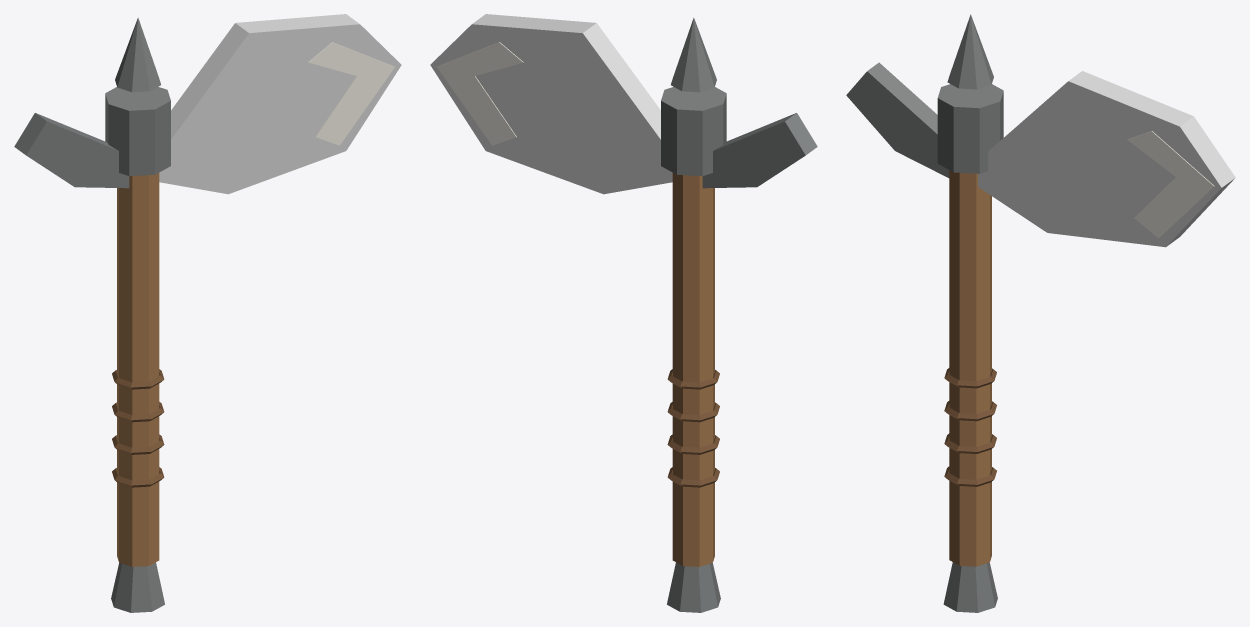
The model's file is t1_axe.glb.
3 views of the same model, side by side, from view 1: azimuth 30°, elevation 25°; view 2: azimuth 150°, elevation 25°; view 3: azimuth 330°, elevation 25° (orthographic).
Parts seen in each view (by area): view 1: RightBlade, WoodHandle, TopSocket, BackSpike, RightBladeEdge, BottomPommel, TopSpike; view 2: RightBlade, WoodHandle, TopSocket, BackSpike, RightBladeEdge, BottomPommel, TopSpike; view 3: RightBlade, WoodHandle, BackSpike, TopSocket, RightBladeEdge, BottomPommel, TopSpike.
Boxes of the visible parts, box(x1,y1,x2,y2) form: RightBlade: box(159, 14, 401, 194); WoodHandle: box(117, 173, 159, 566); TopSocket: box(105, 87, 170, 176); BackSpike: box(14, 113, 129, 188); RightBladeEdge: box(308, 42, 394, 145); BottomPommel: box(111, 562, 164, 612); TopSpike: box(115, 17, 160, 92); RightBlade: box(430, 14, 672, 194); WoodHandle: box(672, 173, 714, 566); TopSocket: box(661, 87, 726, 176); BackSpike: box(702, 113, 817, 188); RightBladeEdge: box(437, 42, 523, 145); BottomPommel: box(667, 562, 720, 612); TopSpike: box(671, 17, 716, 92); RightBlade: box(978, 71, 1235, 247); WoodHandle: box(949, 170, 991, 566); BackSpike: box(846, 62, 949, 177); TopSocket: box(937, 84, 1003, 173); RightBladeEdge: box(1127, 131, 1214, 238); BottomPommel: box(943, 562, 997, 612); TopSpike: box(947, 14, 993, 89).
Bounding box in the file's own units: 1.08 × 1.61 × 0.17.
